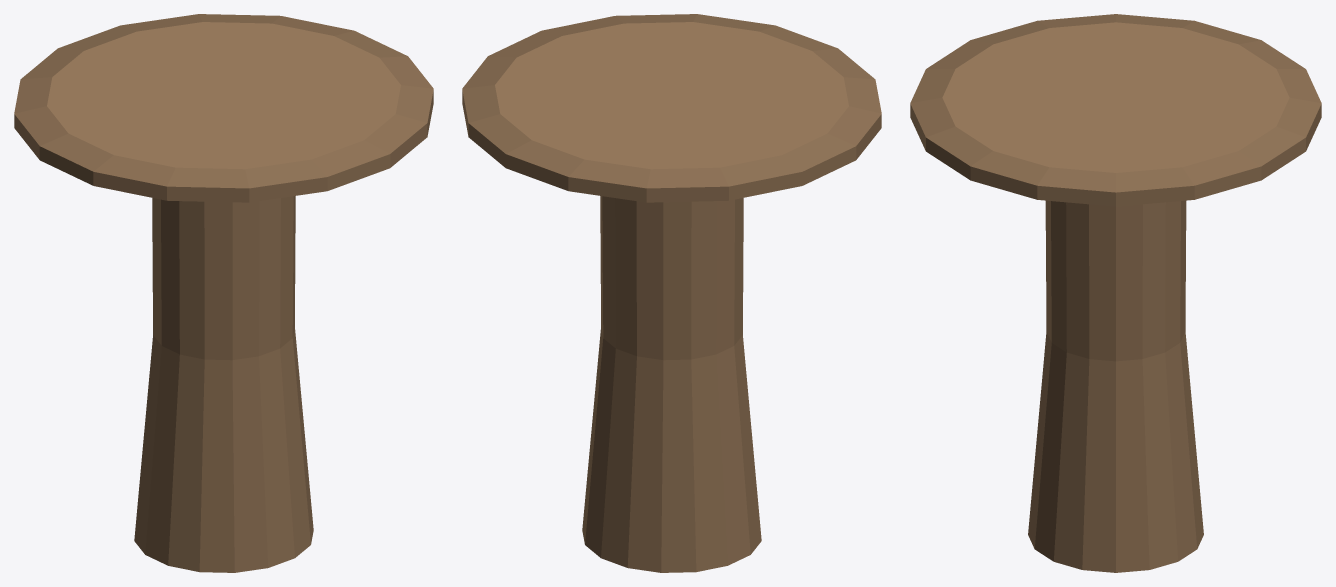
The model's file is WoodTable.fbx.
3 views of the same model, side by side, from view 1: azimuth 30°, elevation 25°; view 2: azimuth 150°, elevation 25°; view 3: azimuth 270°, elevation 25° (orthographic).
Visible parts, largest first — view 1: WoodTable; view 2: WoodTable; view 3: WoodTable.
Boxes of the visible parts, x1,y1,x2,y2 form: WoodTable: (14, 14, 433, 572); WoodTable: (462, 14, 881, 572); WoodTable: (910, 14, 1321, 572).
Bounding box in the file's own units: 164 × 188 × 160.
